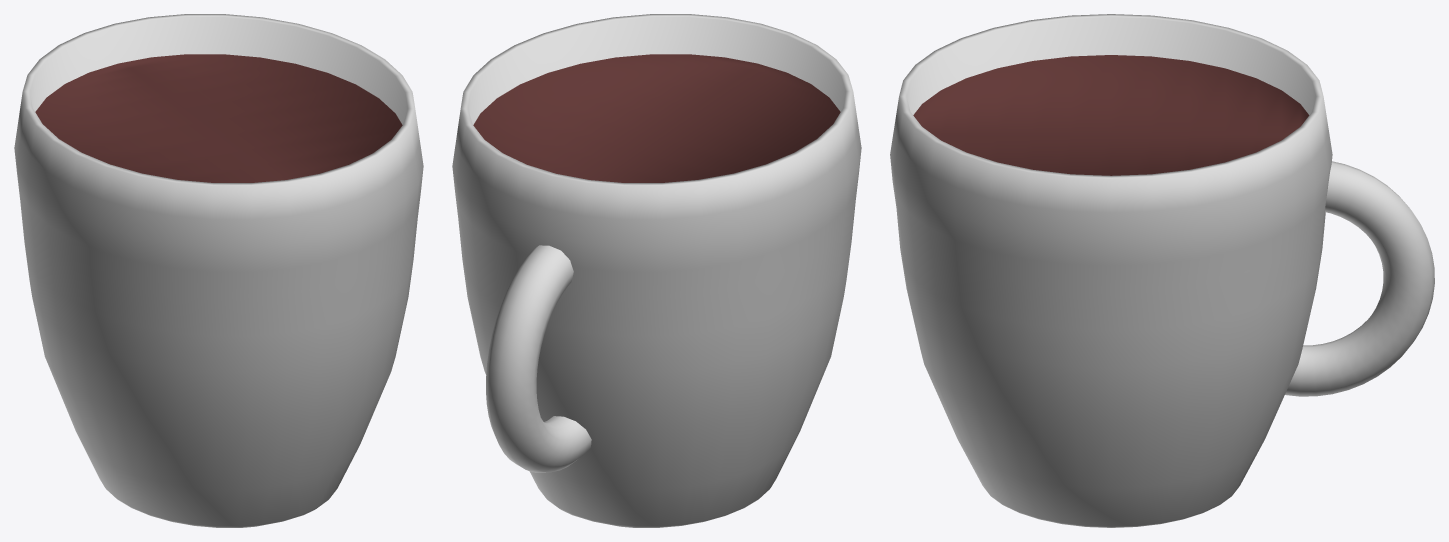
The model's file is Taza.fbx.
3 views of the same model, side by side, from view 1: azimuth 30°, elevation 25°; view 2: azimuth 150°, elevation 25°; view 3: azimuth 270°, elevation 25° (orthographic).
Visible parts, largest first — view 1: Cylinder; view 2: Cylinder; view 3: Cylinder.
Boxes of the visible parts, x1,y1,x2,y2 form: Cylinder: [14, 14, 423, 527]; Cylinder: [452, 14, 861, 527]; Cylinder: [890, 14, 1434, 527].
Bounding box in the file's own units: 3.95 × 4.1 × 5.29.
